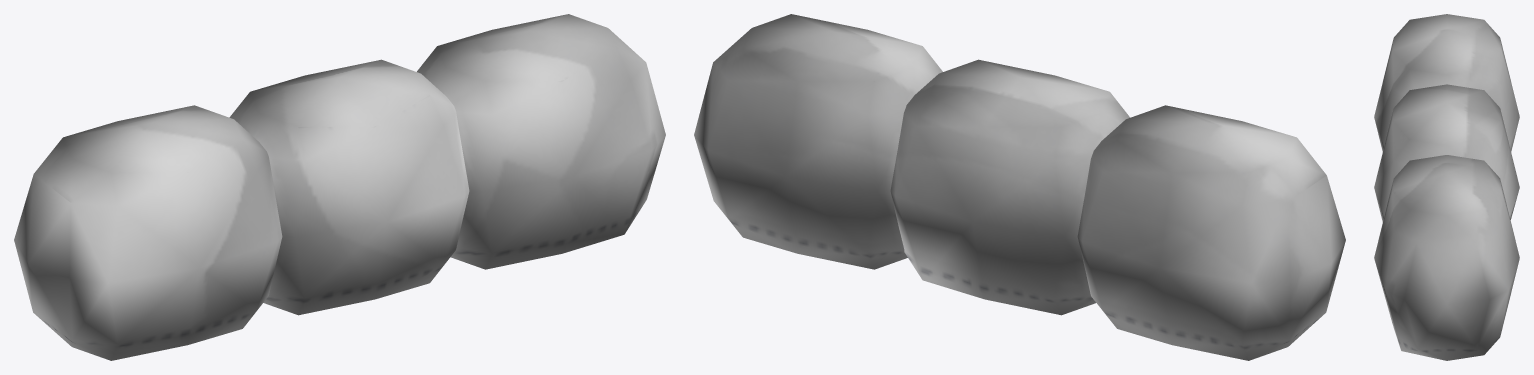
File: Head_C2.fbx
3 renders of one model, left to right at view 1: azimuth 30°, elevation 25°; view 2: azimuth 150°, elevation 25°; view 3: azimuth 270°, elevation 25°, orthographic. The views are drawn at different scales.
Visible parts, largest first — view 1: Civ_PeloCorto_Head_C2; view 2: Civ_PeloCorto_Head_C2; view 3: Civ_PeloCorto_Head_C2.
Part boxes in pixels (left/top/right/bottom): Civ_PeloCorto_Head_C2: left=14, top=14, right=665, bottom=360; Civ_PeloCorto_Head_C2: left=694, top=14, right=1345, bottom=360; Civ_PeloCorto_Head_C2: left=1374, top=14, right=1519, bottom=360.
Size of the model in its own units: 0.9514 by 0.3214 by 0.25.
